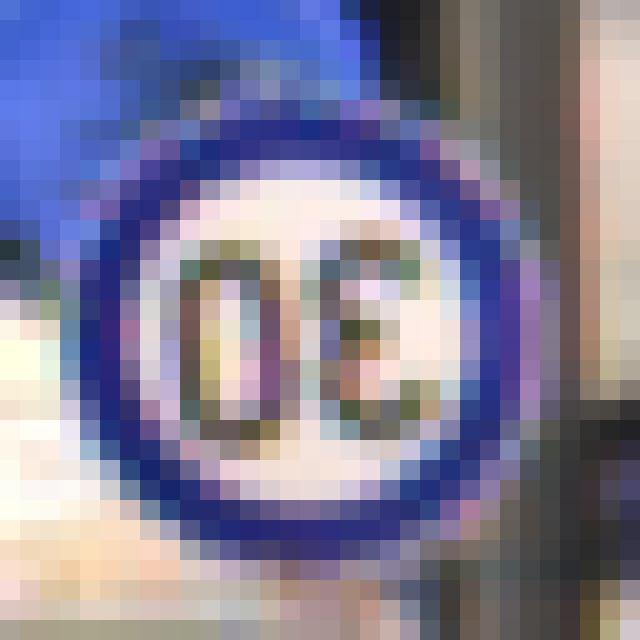SPEED LIMIT 30: (82, 118, 498, 540)
